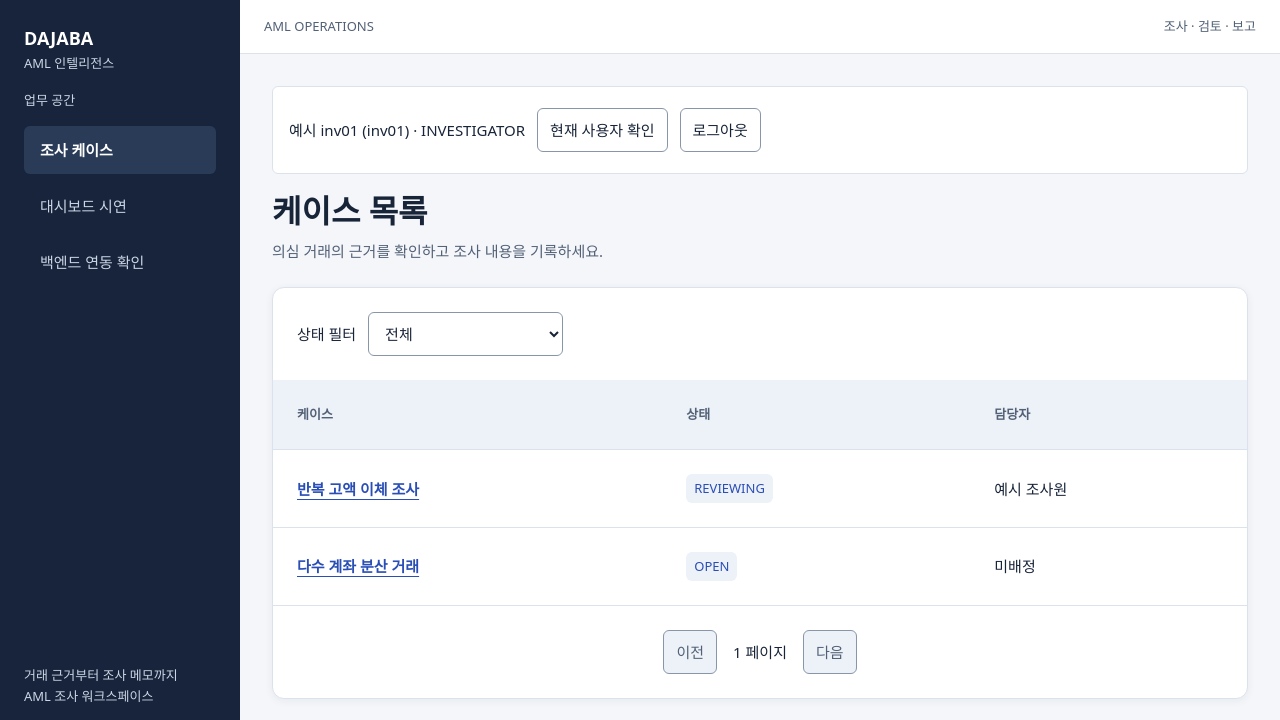
Test: 케이스 조사 › 상태 필터가 빈 결과를 표시한다
The width and height of the screenshot is (1280, 720).
Select "CLOSED" in the dropdown labelled "상태 필터". click: (466, 334)
box: [368,312,563,356]
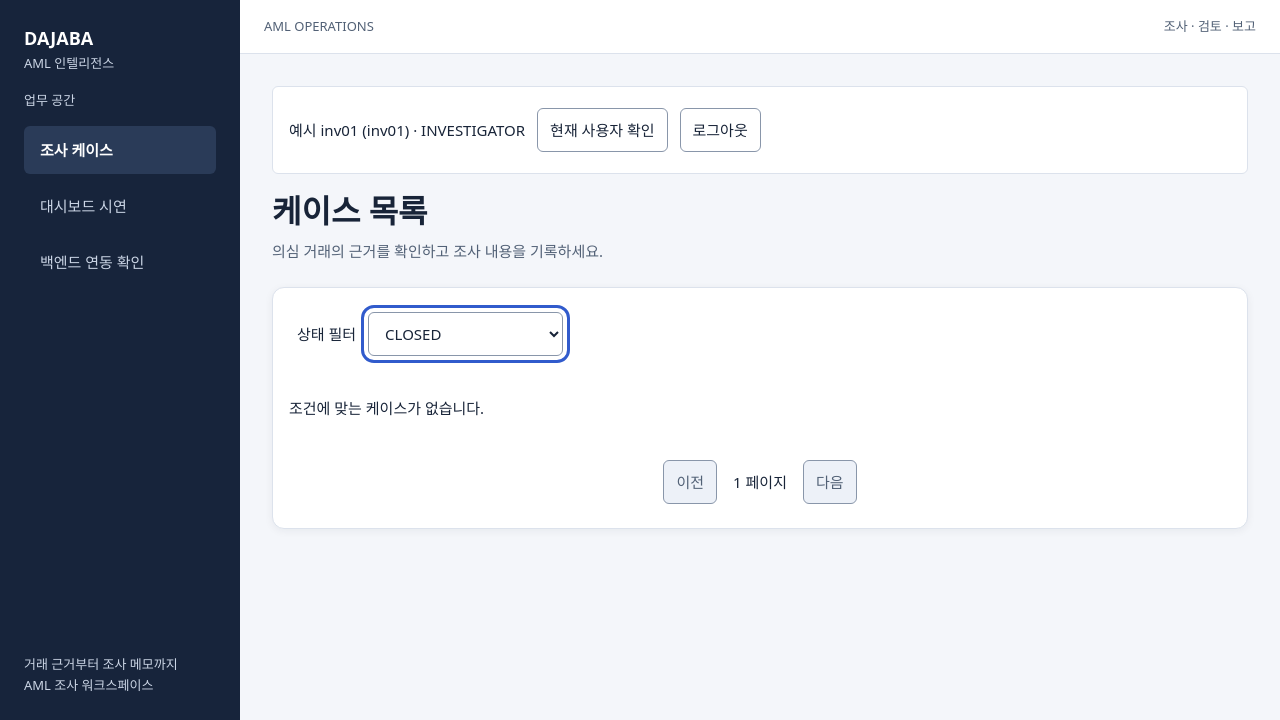
Result: the text "조건에 맞는 케이스가 없습니다." is shown at [289,398,484,418]
